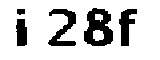2: (42, 4, 79, 49)
8: (83, 3, 114, 51)
f: (118, 6, 144, 51)
i: (11, 4, 33, 53)
